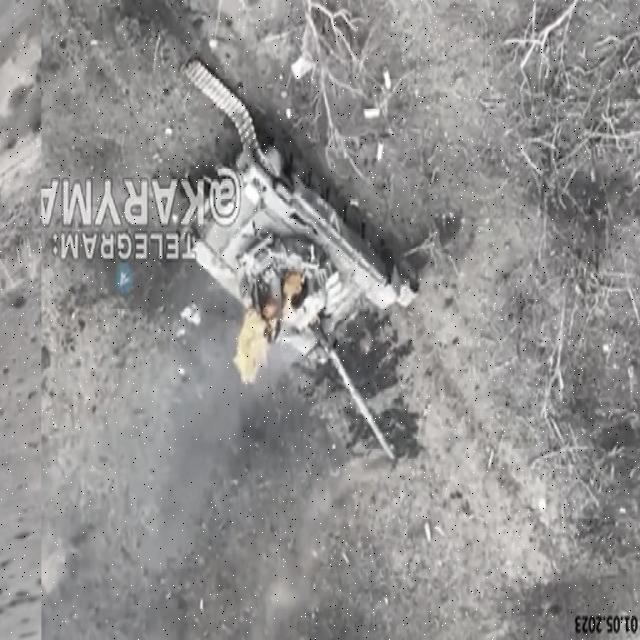TANK: (186, 98, 418, 482)
